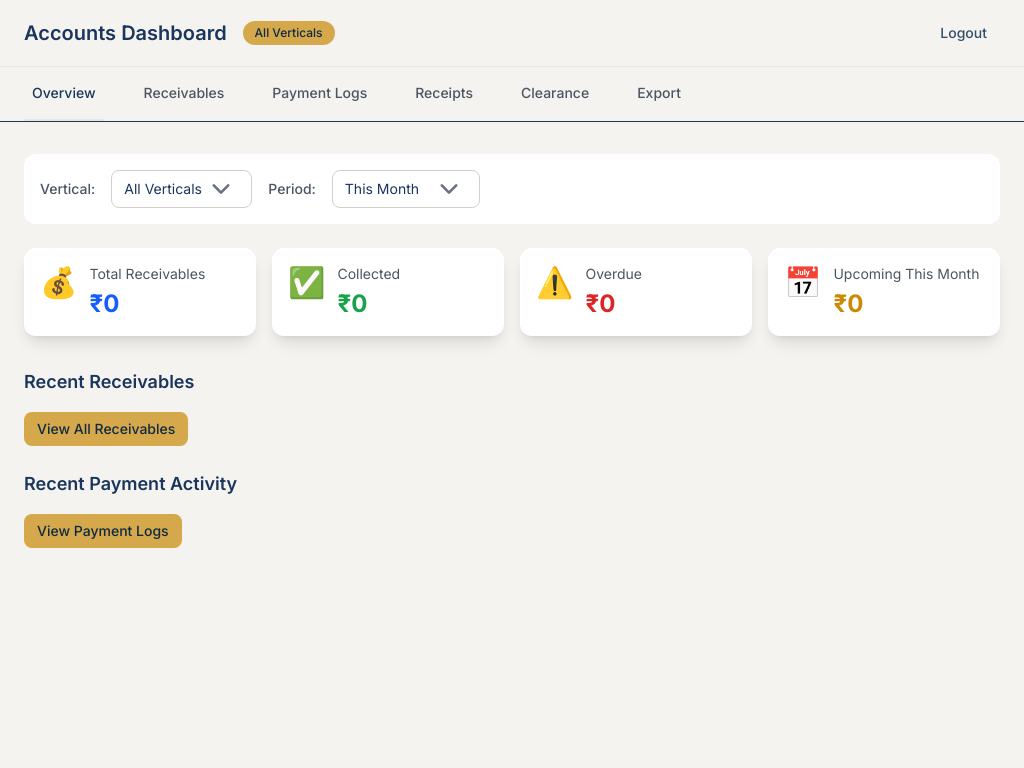
Scenario: Task 16: Accounts / Accounting Team Dashboards › 16.1 - Payment Logs › should have Export Logs button
This screenshot has width=1024, height=768.
Click the button "Payment Logs".
click(320, 94)  # box left=264, top=67, right=375, bottom=121
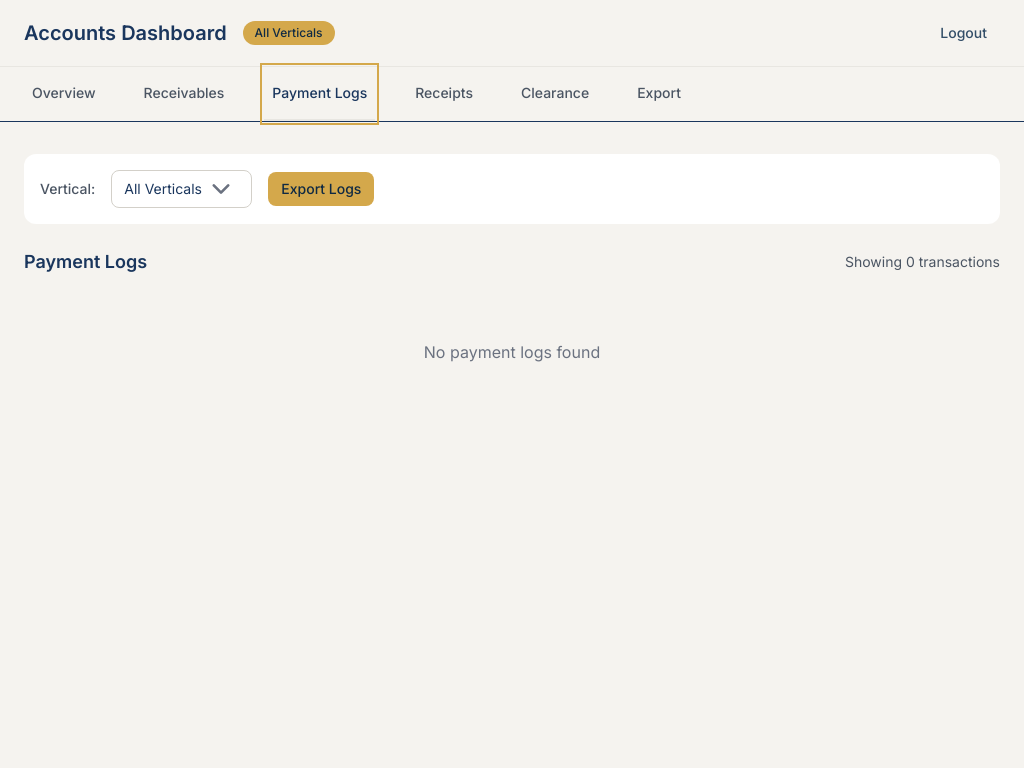
Result: the text "Export Logs" is shown at left=281, top=179, right=361, bottom=199
